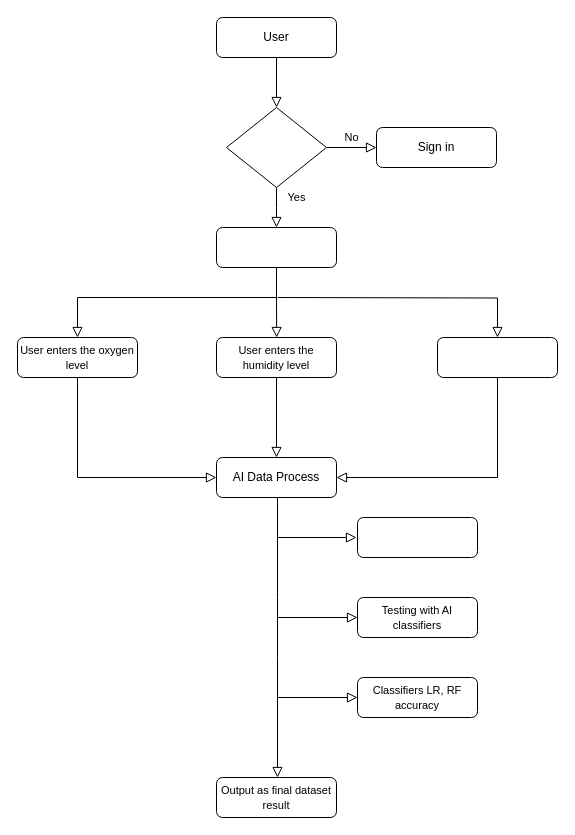
Image size: 575x835. Some labels were removed from this diagram. The shapes that lost their labels are listed below. From the top down, each one's centre as x and y in pixels, then its label:
At [276,147]: "Authentication".
At [276,247]: "User requests the current fire risk level".
At [497,357]: "User enters the temperature level".
At [417,537]: "Trains with Testing Dataset".
